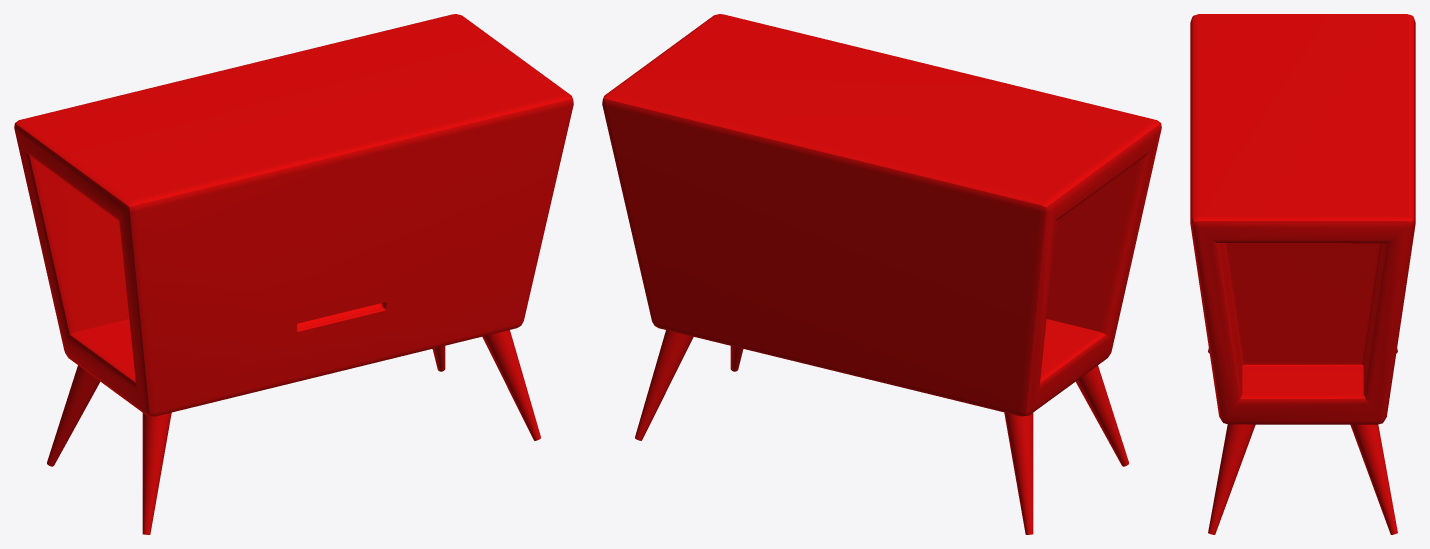
The model's file is TVstand_msh.fbx.
The picture shows the model from 3 angles, left to right: view 1: azimuth 30°, elevation 25°; view 2: azimuth 150°, elevation 25°; view 3: azimuth 270°, elevation 25°; orthographic projection. The views are drawn at different scales.
Parts seen in each view (by area): view 1: TVstand_msh; view 2: TVstand_msh; view 3: TVstand_msh.
Boxes of the visible parts, x1,y1,x2,y2 form: TVstand_msh: (14, 14, 573, 534); TVstand_msh: (602, 14, 1161, 534); TVstand_msh: (1190, 14, 1415, 534).
Size of the model in its own units: 99.37 by 73.14 by 45.38.
